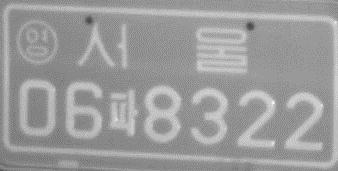0: (17, 77, 56, 138)
2: (282, 91, 325, 152), (235, 88, 277, 149)
3: (188, 86, 229, 145)
6: (64, 80, 103, 141)
8: (142, 82, 181, 143)
서울_D: (76, 21, 248, 73)
영: (16, 18, 61, 66)
파: (108, 88, 138, 137)
